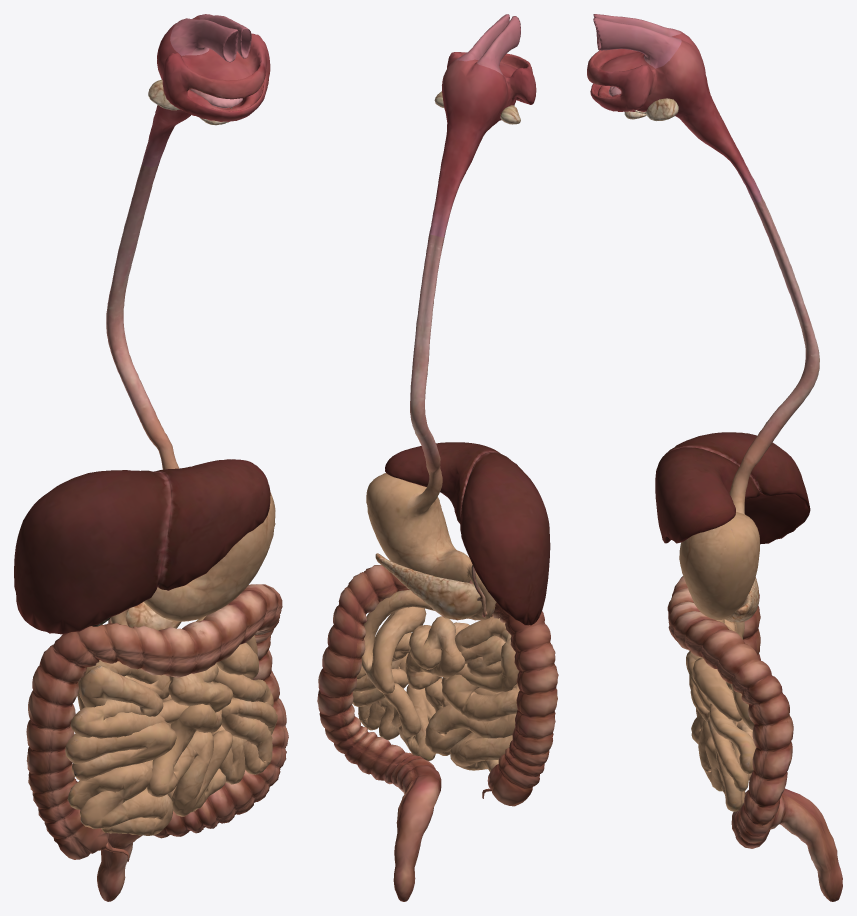
File: digestive_system.glb
3 renders of one model, left to right at view 1: azimuth 30°, elevation 25°; view 2: azimuth 150°, elevation 25°; view 3: azimuth 270°, elevation 25°, orthographic. The views are drawn at different scales.
Parts seen in each view (by area): view 1: DigestiveSystem_Digestive_System_0_0; view 2: DigestiveSystem_Digestive_System_0_0; view 3: DigestiveSystem_Digestive_System_0_0.
Boxes of the visible parts, left/top/right/bottom form: DigestiveSystem_Digestive_System_0_0: left=14, top=14, right=288, bottom=901; DigestiveSystem_Digestive_System_0_0: left=317, top=14, right=558, bottom=901; DigestiveSystem_Digestive_System_0_0: left=587, top=14, right=842, bottom=901.
Size of the model in its own units: 22.36 by 76.41 by 20.01.
Materials: 1 (1 with a texture image).
